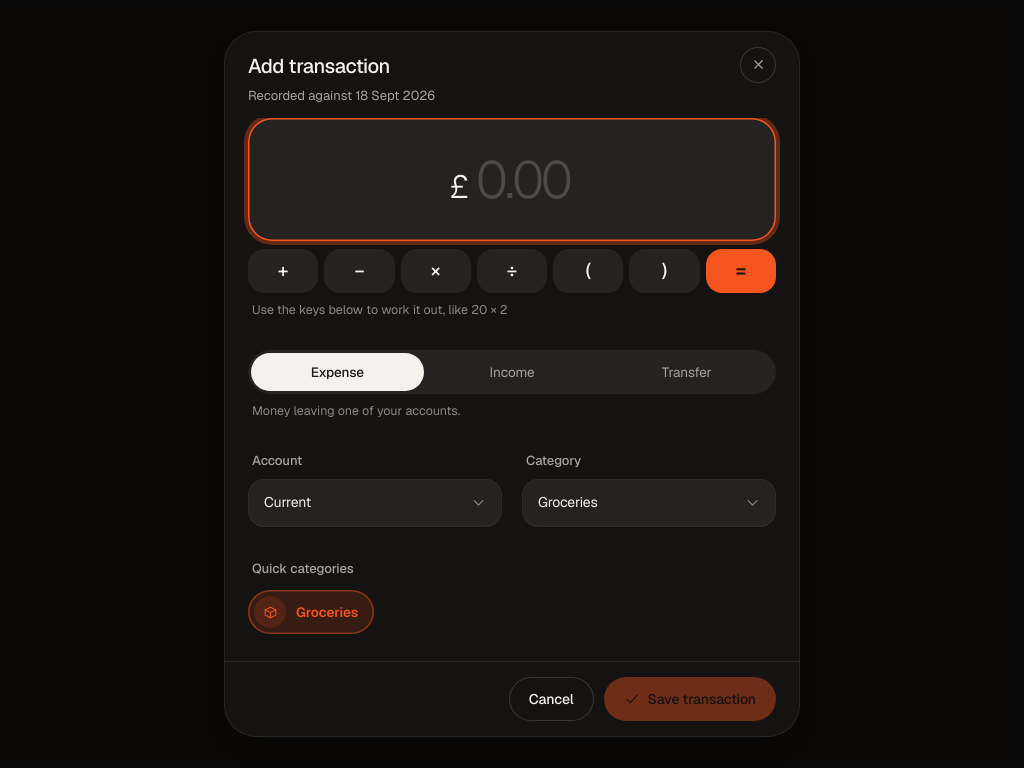
Test: the transaction type › explains money in as well, so no option is left unexplained
What coordinates should you click on to do the following:
click the radio button labelled "Income"
I would click on:
 (512, 372)
Its box is [426, 353, 598, 391].
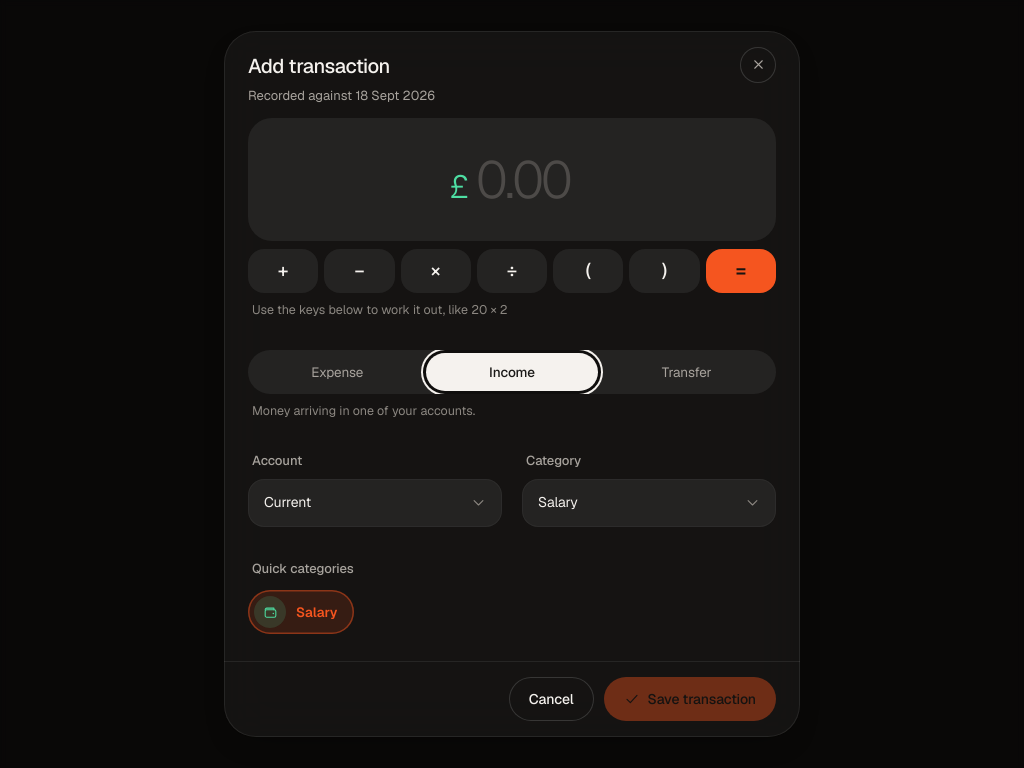
Expected: the text "Money arriving in one of your accounts." is shown, [252, 402, 475, 419]
